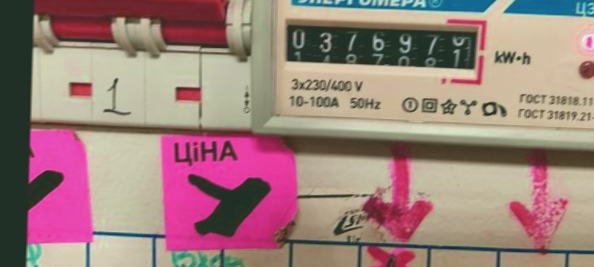0: (290, 28, 306, 50)
1: (451, 47, 460, 70)
3: (318, 31, 332, 53)
6: (370, 29, 386, 52)
7: (344, 29, 359, 53), (424, 32, 439, 55)
9: (397, 32, 412, 54)
screen: (273, 10, 489, 88)
